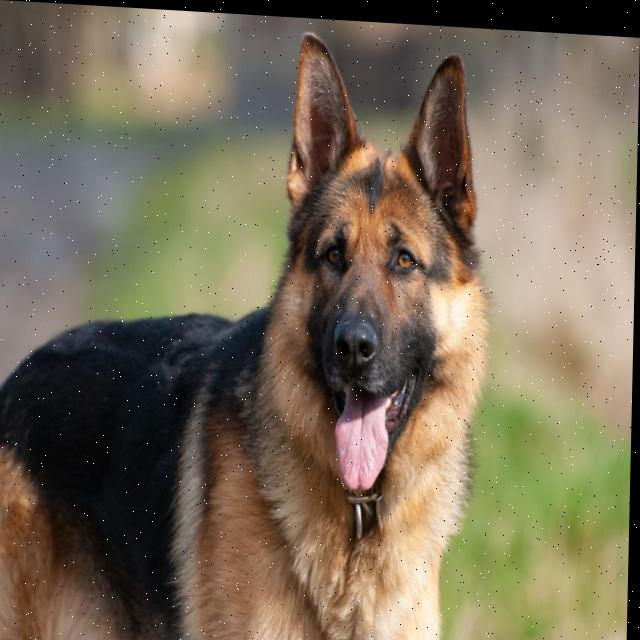GERMAN_SHEPHERD: (0, 0, 505, 640)
